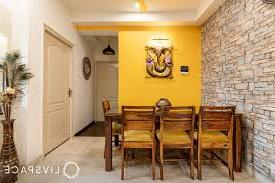chair: (157, 103, 196, 183), (197, 106, 236, 183), (118, 105, 157, 182), (96, 98, 122, 160)
clock: (77, 50, 92, 82)
door: (40, 32, 72, 157), (94, 62, 116, 119)
light: (147, 32, 174, 47), (103, 33, 114, 57), (131, 1, 141, 12)
table: (103, 104, 244, 176)
